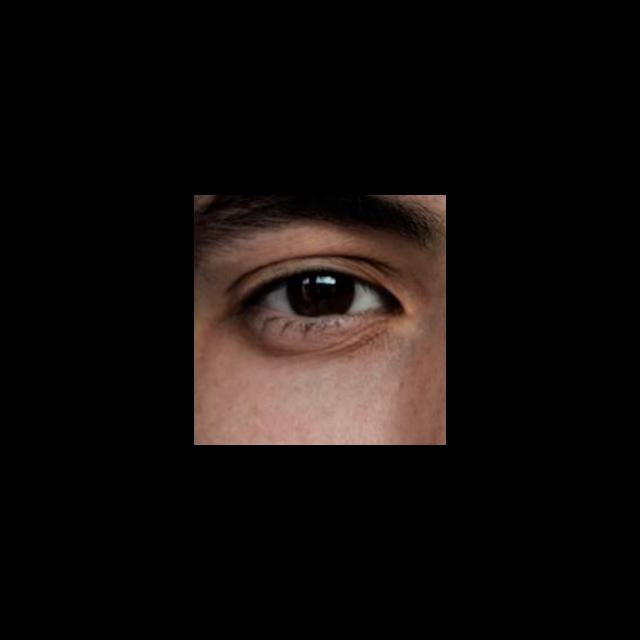eye: (266, 275, 387, 317)
iris: (288, 278, 354, 315)
